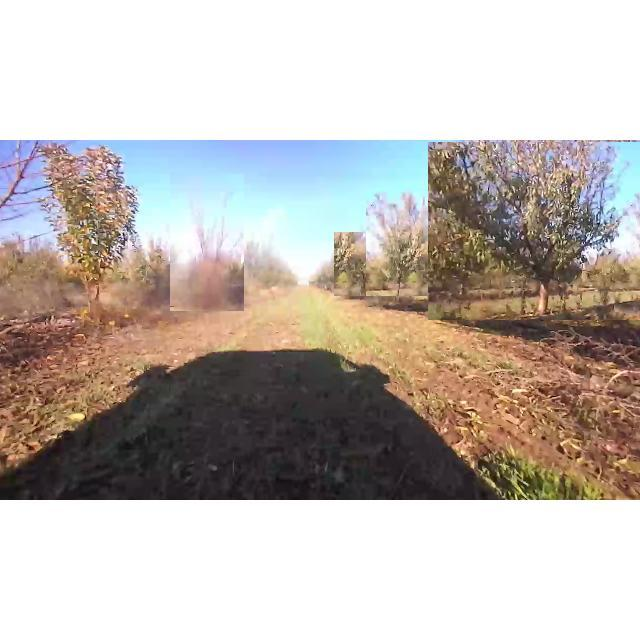tree: (428, 142, 640, 320), (28, 140, 156, 318), (170, 173, 244, 311), (366, 188, 442, 296), (581, 174, 633, 306), (334, 232, 404, 296)
